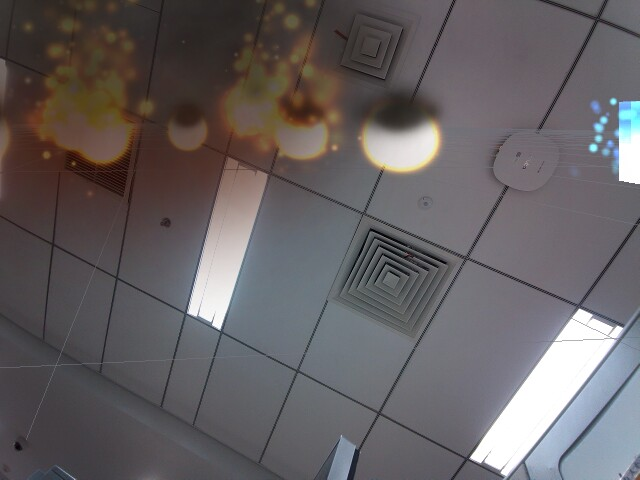fire: (357, 98, 460, 173), (73, 114, 134, 166), (274, 106, 326, 164), (161, 107, 213, 154)
